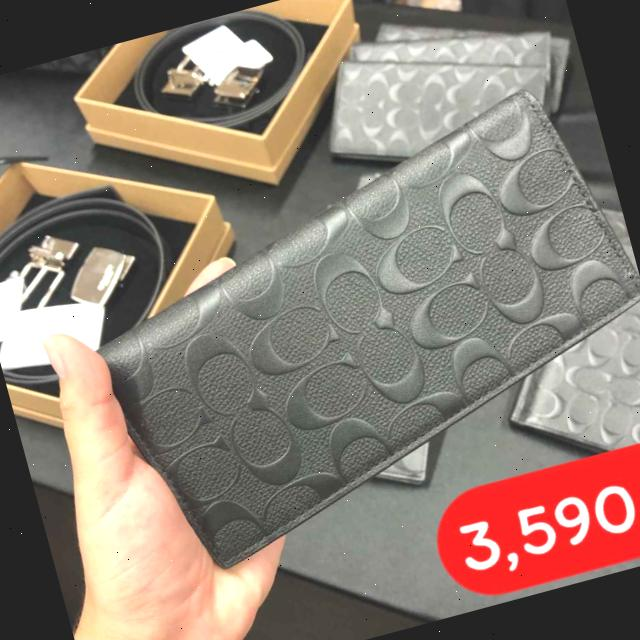Handbag: (77, 72, 640, 584)
